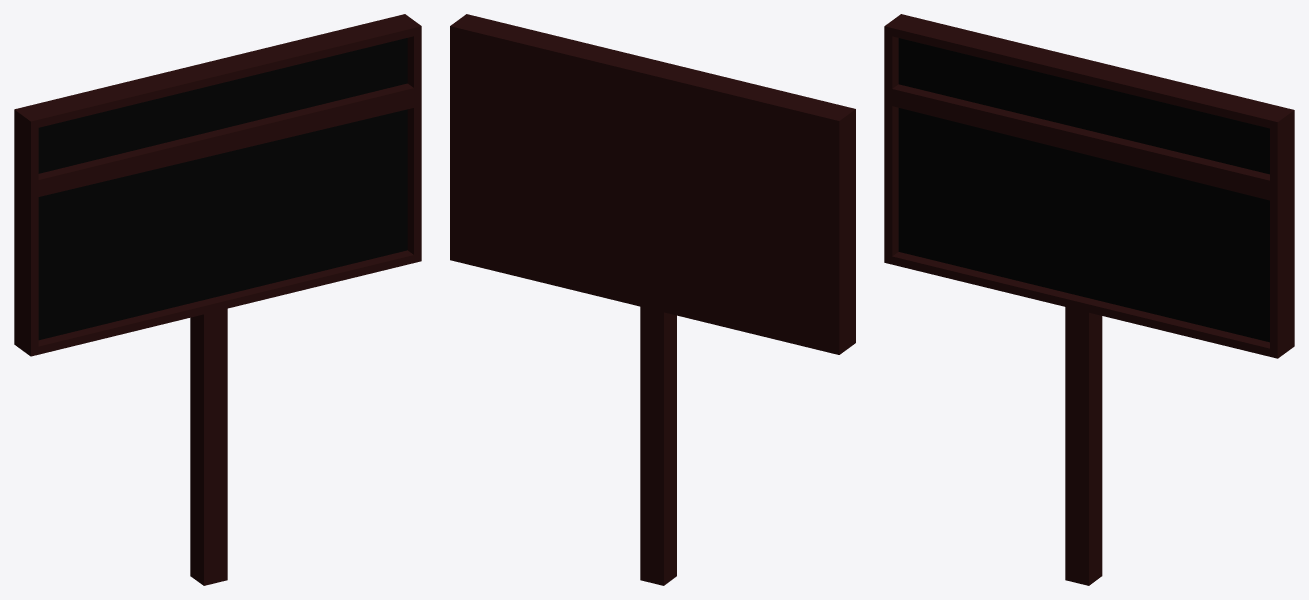
Rendered from ScoreBoardFixedAhorasiFinalFinal.fbx.
3 renders of one model, left to right at view 1: azimuth 30°, elevation 25°; view 2: azimuth 150°, elevation 25°; view 3: azimuth 330°, elevation 25°, orthographic.
Visible parts, largest first — view 1: Plane001, Box002, Box001; view 2: Box002, Box001; view 3: Plane001, Box002, Box001.
Boxes of the visible parts, x1=… form: Plane001: x1=38, y1=38, x2=407, y2=340; Box002: x1=14, y1=14, x2=421, y2=356; Box001: x1=190, y1=308, x2=227, y2=585; Box002: x1=450, y1=14, x2=855, y2=354; Box001: x1=640, y1=306, x2=676, y2=585; Plane001: x1=898, y1=38, x2=1269, y2=342; Box002: x1=884, y1=14, x2=1294, y2=358; Box001: x1=1065, y1=307, x2=1102, y2=585.
Bounding box in the file's own units: 21.82 × 27.19 × 1.61.
